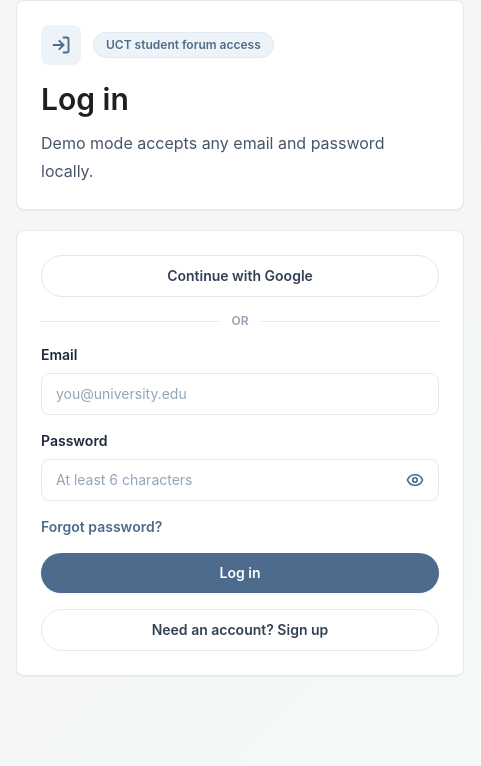
Test: AuthPage › requires terms agreement before submitting signup
Step 1. Click the button "Need an account? Sign up" → (240, 630), box [41, 609, 439, 651]
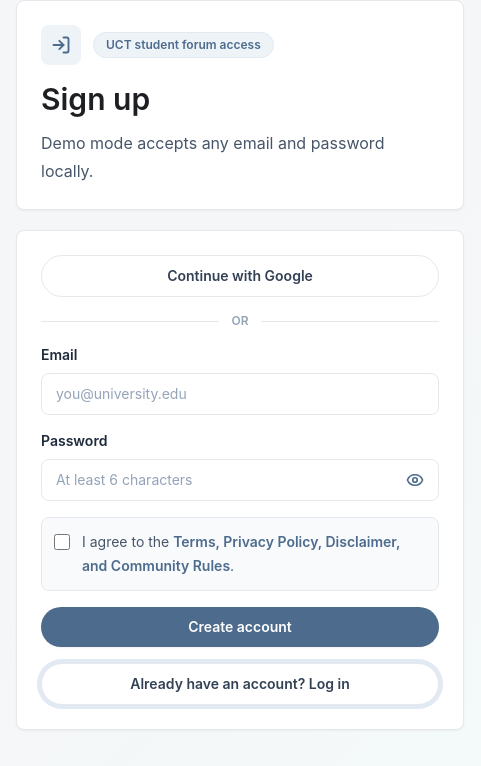
Step 2. Type "new@uct.ac.za" into the field labelled "Email" → (240, 394), box [41, 373, 439, 415]
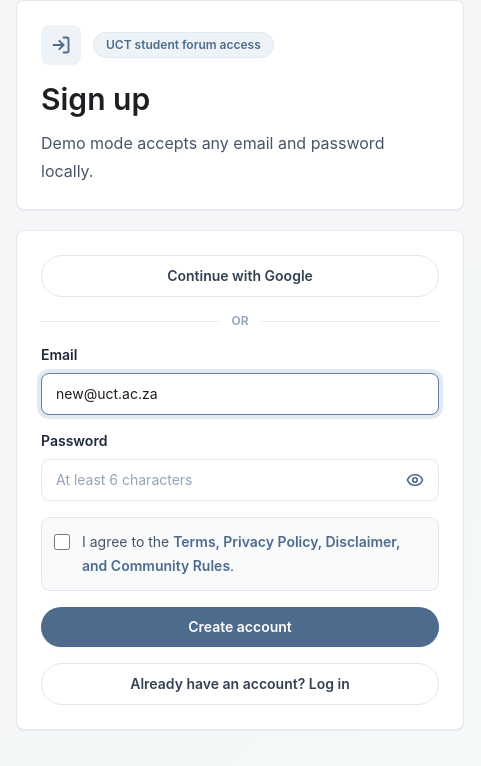
Step 3. Type "password123" into the password field labelled "Password" → (240, 480), box [41, 459, 439, 501]
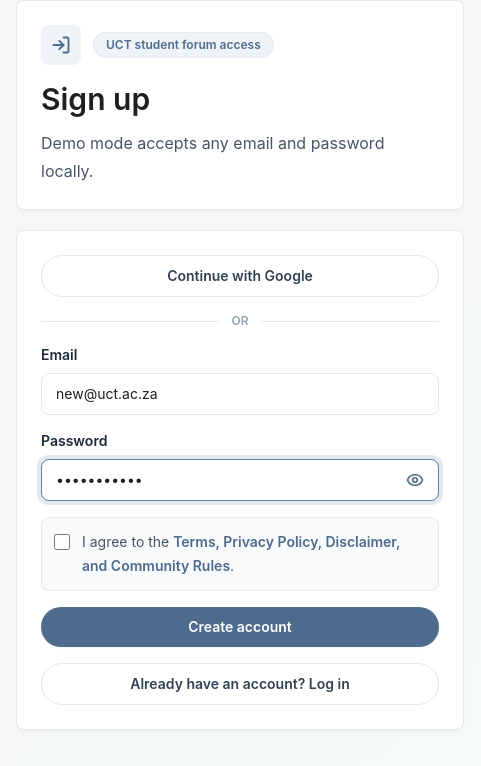
Step 4. Click the button "Create account" → (240, 627), box [41, 607, 439, 647]
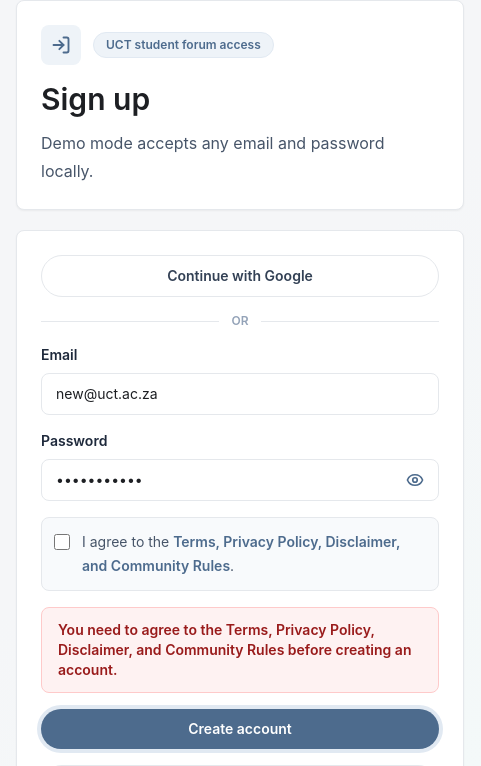
expect the text "You need to agree to the Terms, Privacy Policy, Disclaimer, and Community Rules before creating an account." is shown: met, box [58, 621, 412, 678]
